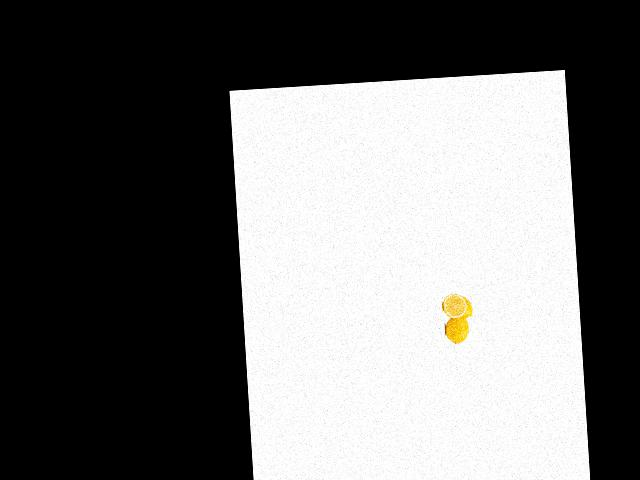lemon: (448, 289, 475, 320)
